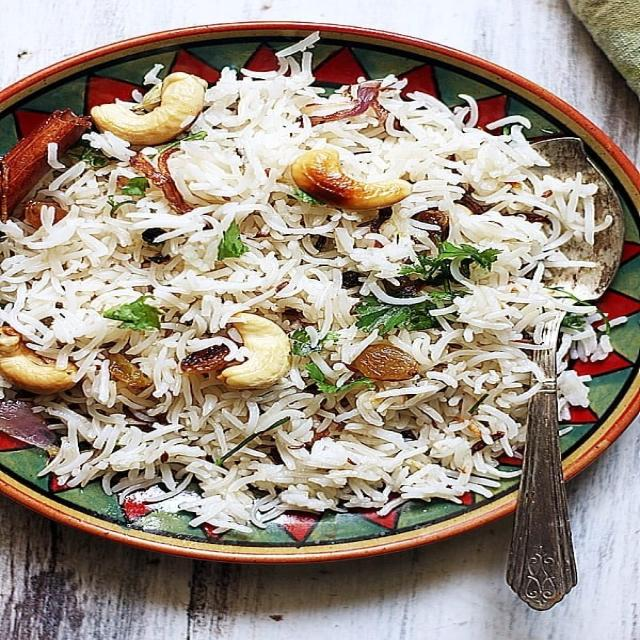nei satham: (0, 6, 599, 534)
